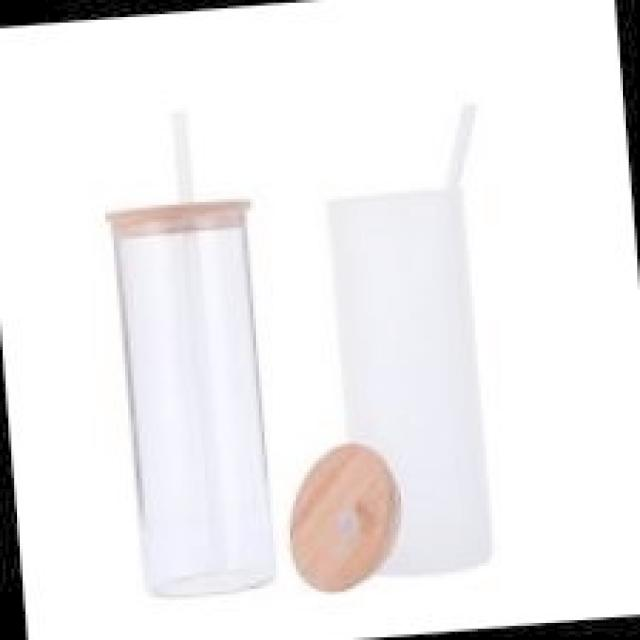bottle: (308, 82, 528, 586), (92, 104, 289, 604)
